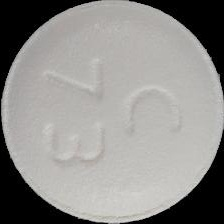62584-265: (0, 0, 224, 224)
